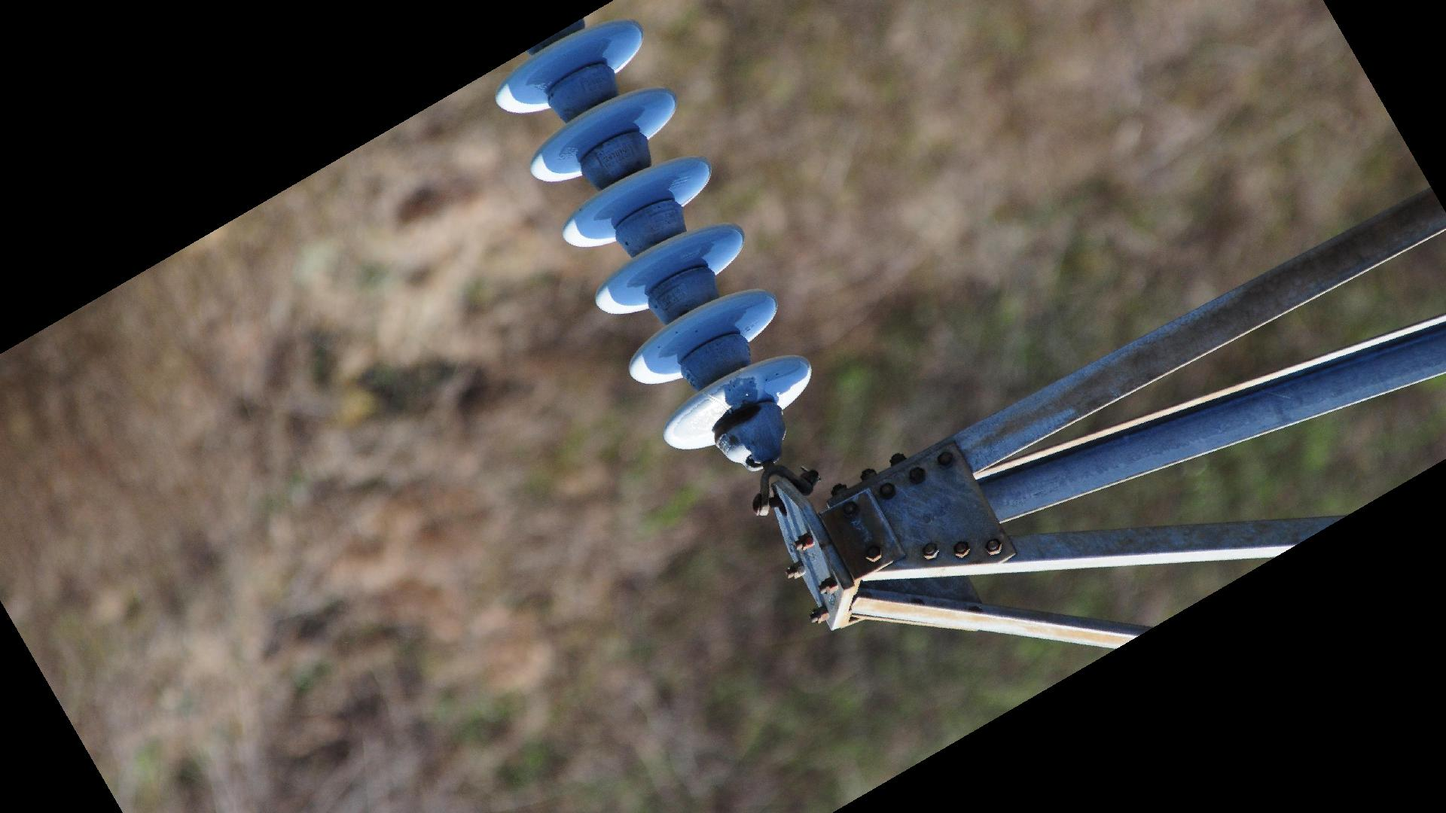insulator: (484, 15, 820, 462)
insulator_flashover: (672, 373, 759, 446)
